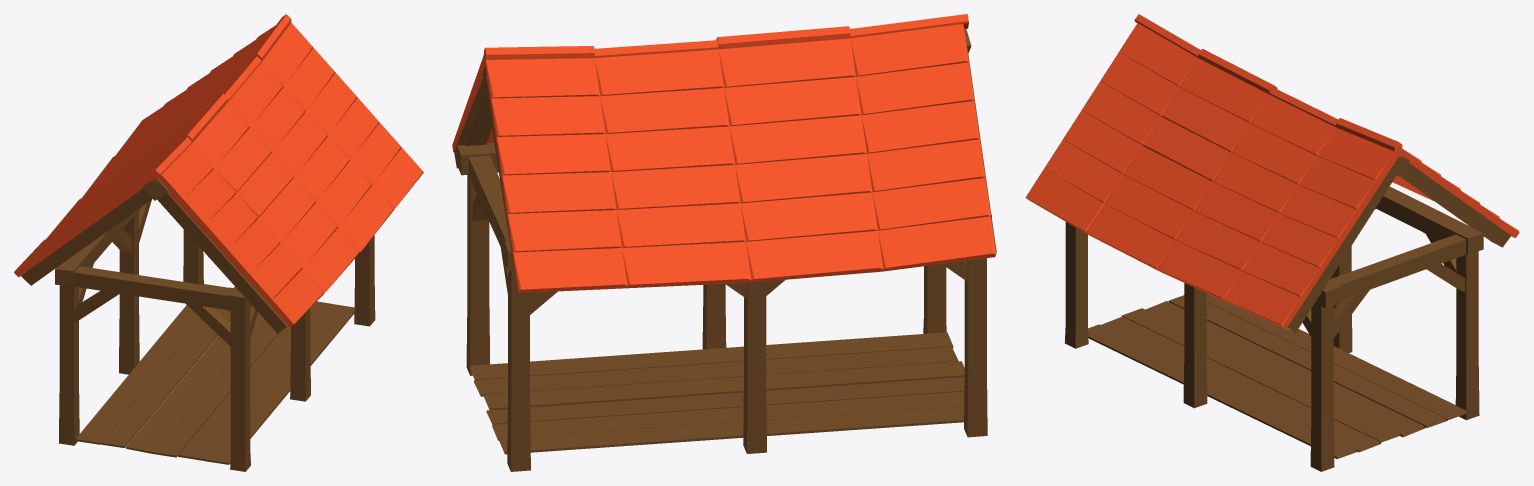
The model's file is Schuur.fbx.
The picture shows the model from 3 angles, left to right: view 1: azimuth 30°, elevation 25°; view 2: azimuth 150°, elevation 25°; view 3: azimuth 270°, elevation 25°; orthographic projection. The views are drawn at different scales.
Visible parts, largest first — view 1: Schuur; view 2: Schuur; view 3: Schuur.
Boxes of the visible parts, <box> form: Schuur: <box>14,14,423,471</box>; Schuur: <box>452,14,996,471</box>; Schuur: <box>1025,14,1519,471</box>.
Size of the model in its own units: 659 by 438 by 646.
